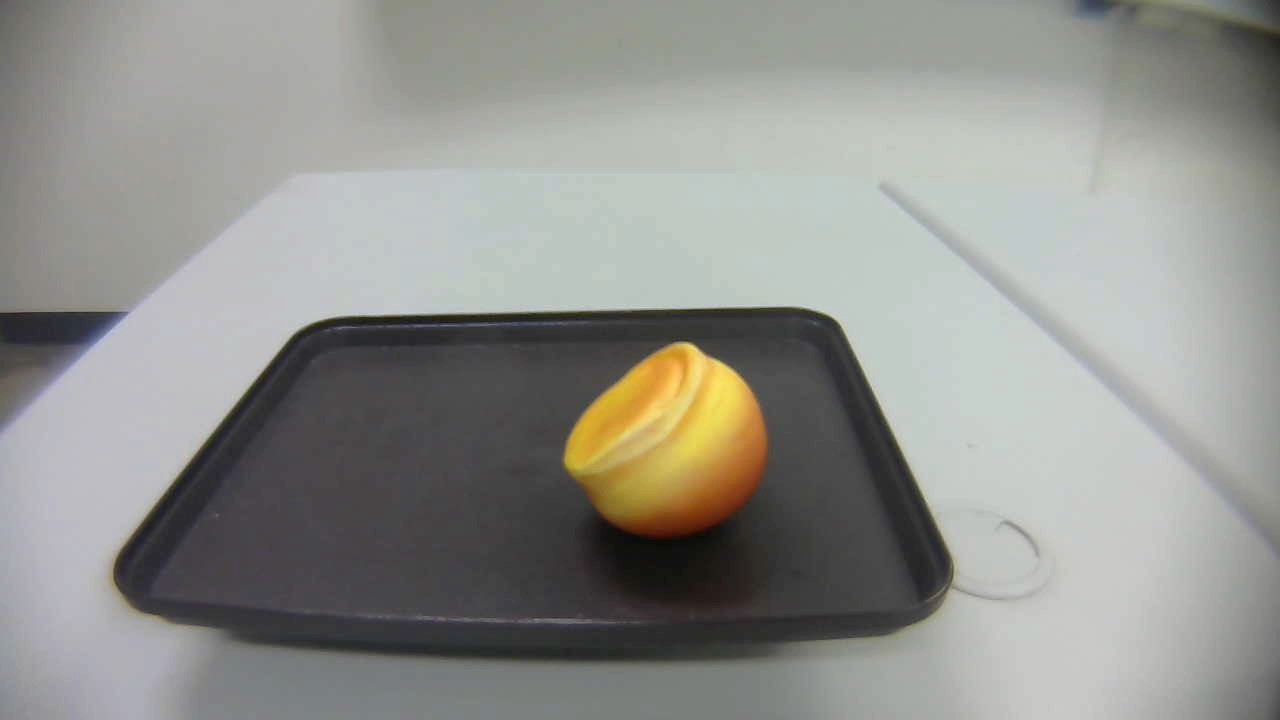bun: (563, 341, 768, 541)
